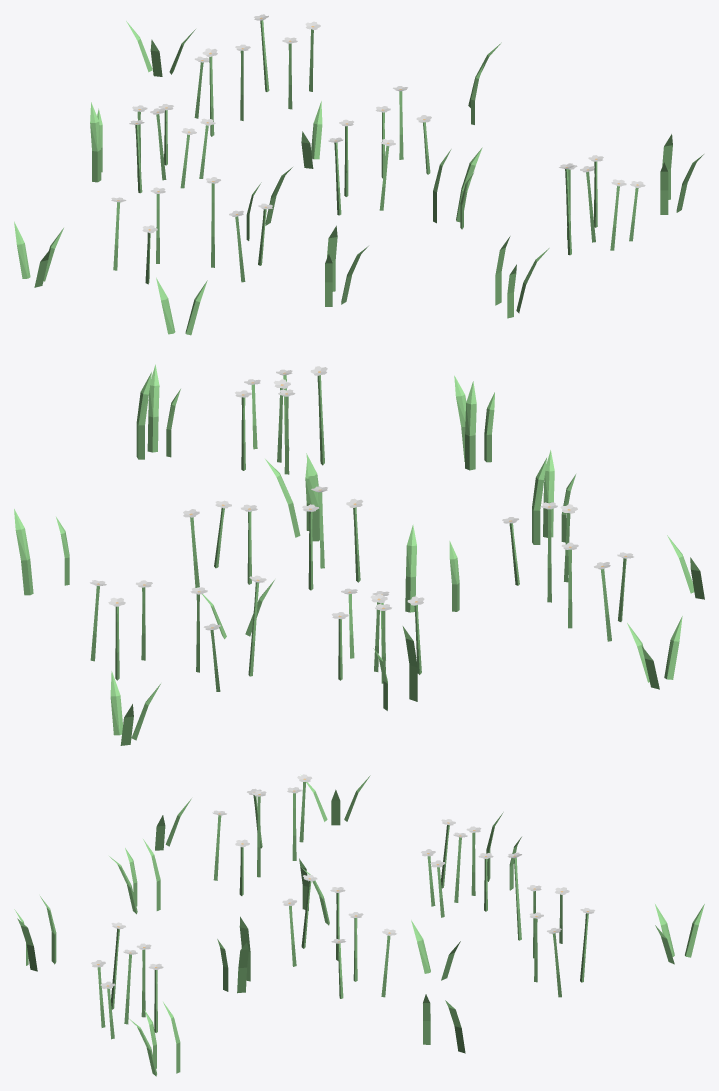
The model's file is SwampFlowers.fbx.
3 views of the same model, one above another, from view 1: azimuth 30°, elevation 25°; view 2: azimuth 150°, elevation 25°; view 3: azimuth 270°, elevation 25° (orthographic). The views are drawn at different scales.
Parts seen in each view (by area): view 1: SwampFlowers; view 2: SwampFlowers; view 3: SwampFlowers.
Boxes of the visible parts, box(x1,y1,x2,y2) form: SwampFlowers: box(14, 14, 703, 335); SwampFlowers: box(14, 364, 704, 745); SwampFlowers: box(14, 774, 704, 1076).
Bounding box in the file's own units: 5.17 × 0.8469 × 5.66.
